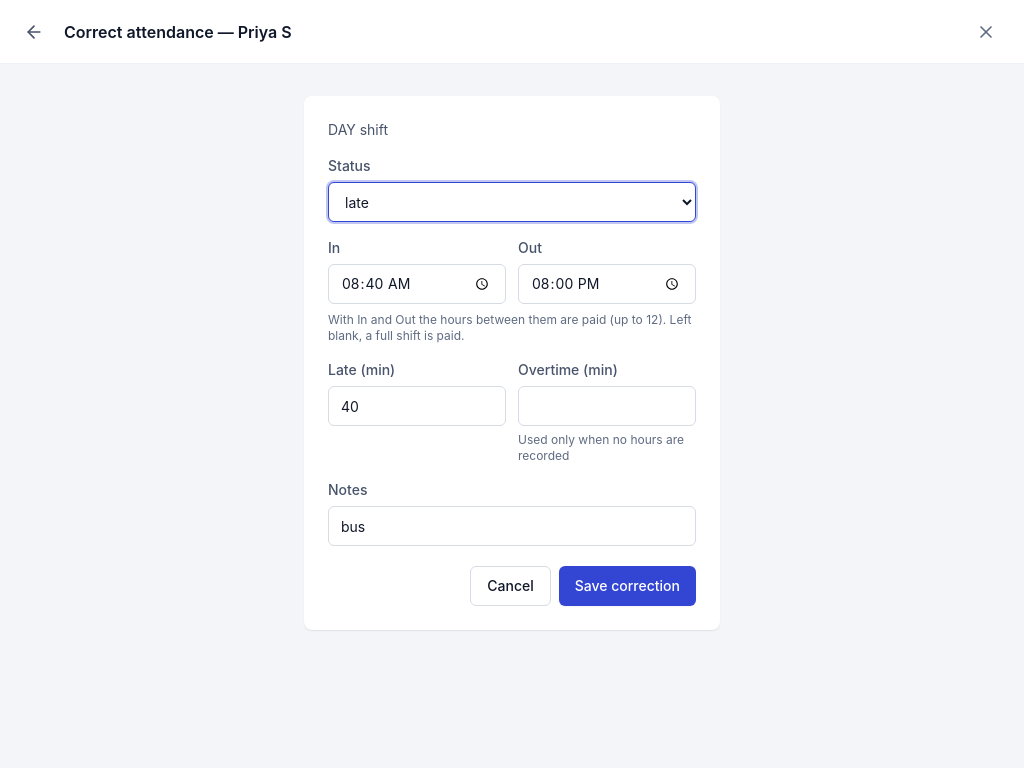
Test case: the dialog › a shift that is not a worked one has no hours to give
The image size is (1024, 768).
Expected: the time field labelled "In" is shown, top-left (328, 264), bottom-right (506, 304)
Select "on leave" in the dropdown labelled "Status" at [512, 202], box top-left (328, 182), bottom-right (696, 222)
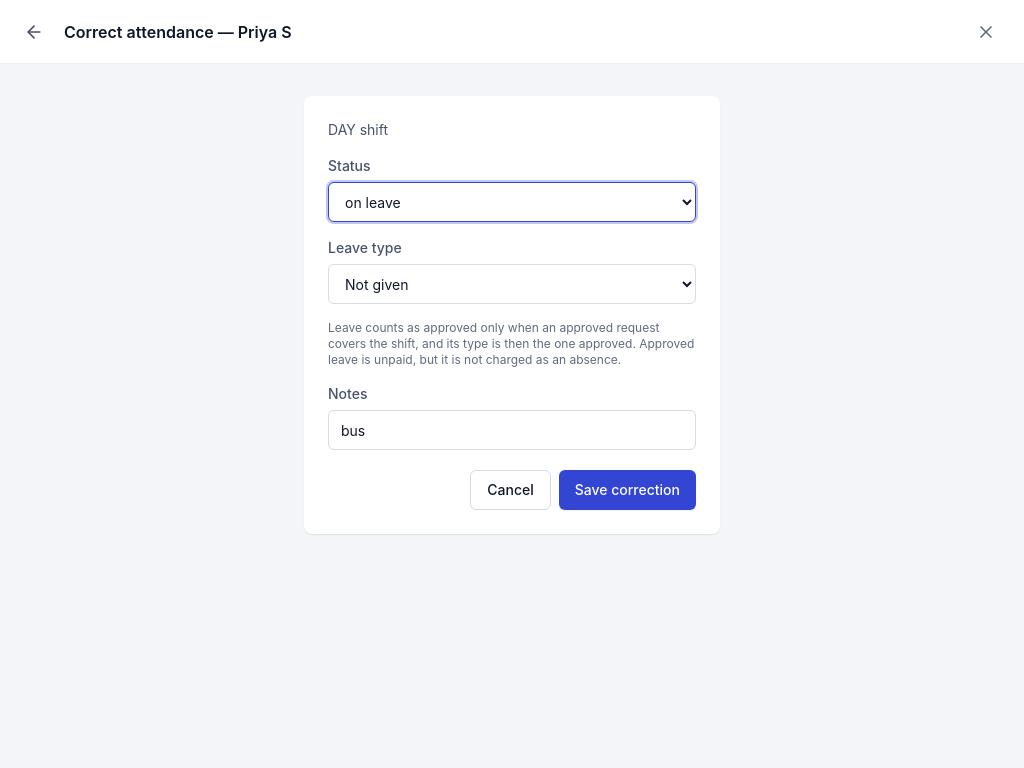
Expected: the label labelled "In" is gone
Expected: the dropdown labelled "Leave type" is shown, top-left (328, 264), bottom-right (696, 304)
